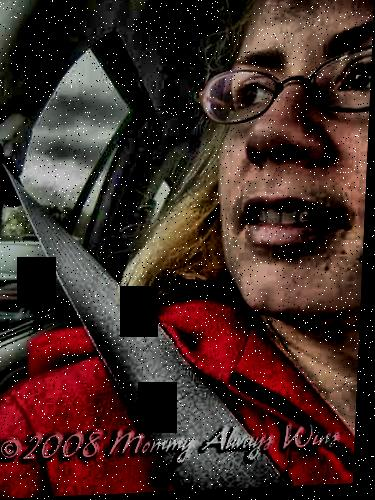seatbelt: (0, 162, 284, 469)
